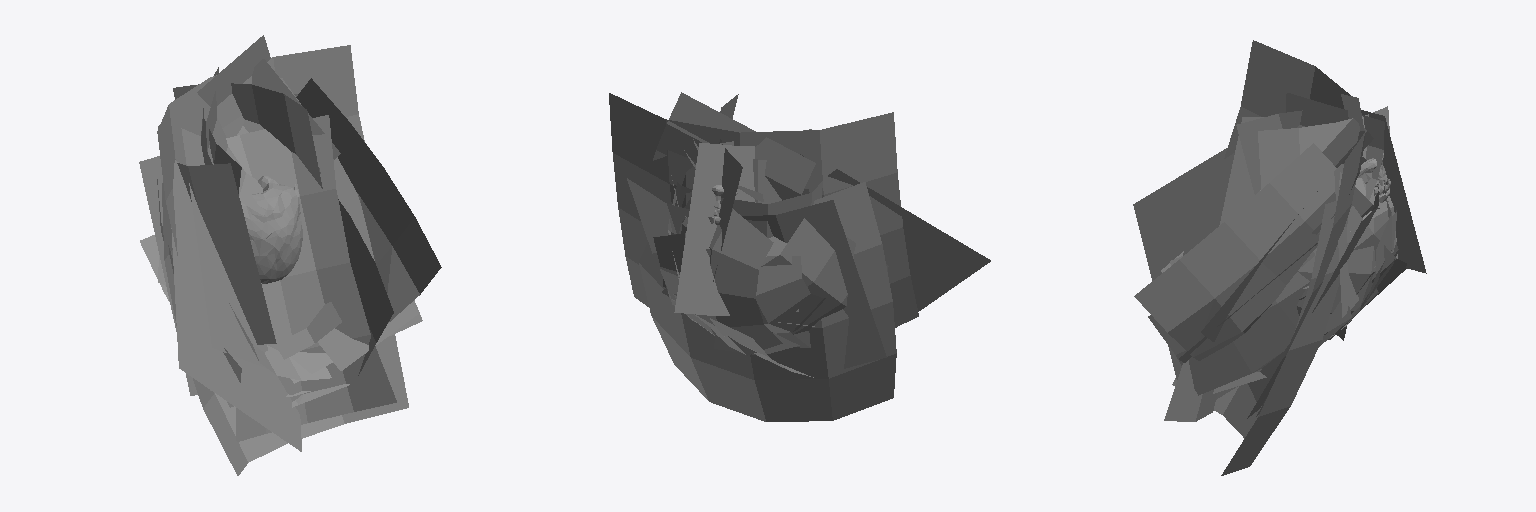
File: skull.obj
The picture shows the model from 3 angles: view 1: azimuth 30°, elevation 25°; view 2: azimuth 150°, elevation 25°; view 3: azimuth 270°, elevation 25°; orthographic projection.
Parts seen in each view (by area): view 1: longfire, pointfire2, bgfire, skull; view 2: pointfire2, longfire, lightfire; view 3: longfire, pointfire2, bgfire, lightfire, skull.
Boxes of the visible parts, box(x1,y1,x2,y2) form: longfire: box(140, 78, 441, 475); pointfire2: box(139, 35, 422, 407); bgfire: box(181, 78, 418, 441); skull: box(241, 176, 302, 283); pointfire2: box(609, 92, 918, 368); longfire: box(639, 169, 990, 421); lightfire: box(653, 206, 825, 355); longfire: box(1133, 143, 1406, 475); pointfire2: box(1170, 40, 1426, 418); bgfire: box(1164, 149, 1366, 421); lightfire: box(1297, 178, 1396, 339); skull: box(1358, 153, 1390, 202).
Bounding box in the file's own units: 551 × 634 × 465.